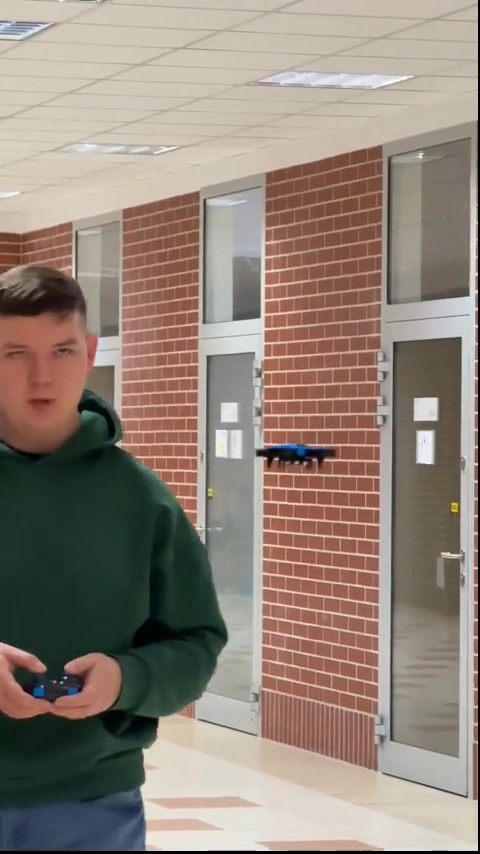drone: (254, 447, 338, 473)
no vest: (0, 261, 229, 852)
